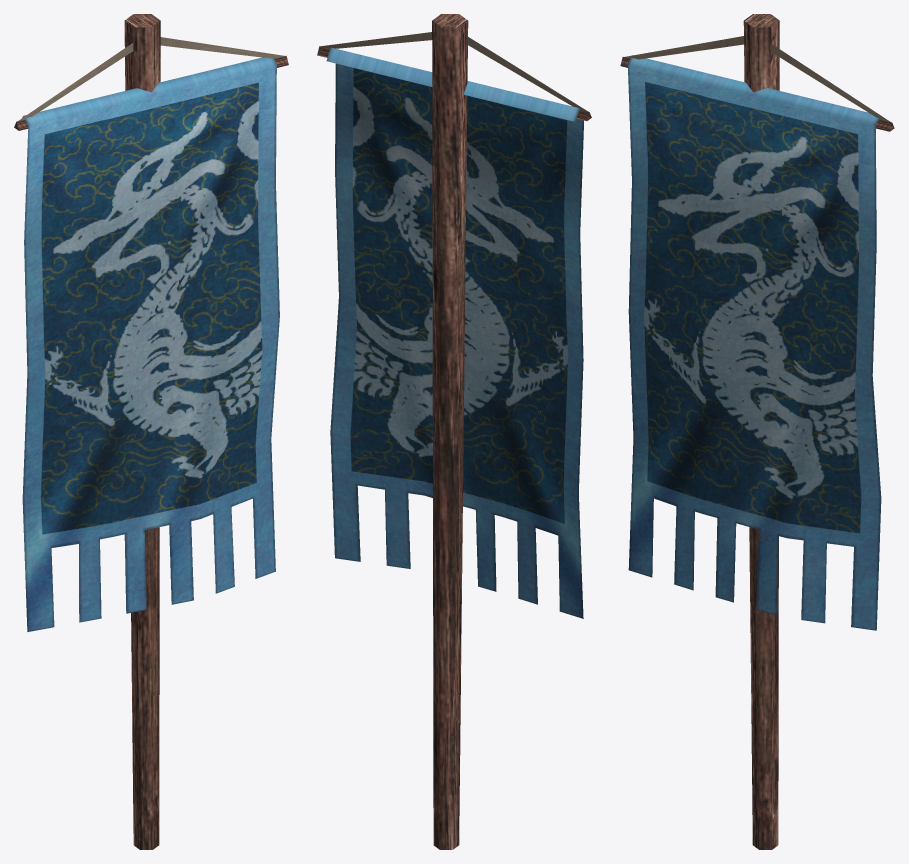
Rendered from flag01.FBX.
3 renders of one model, left to right at view 1: azimuth 30°, elevation 25°; view 2: azimuth 150°, elevation 25°; view 3: azimuth 330°, elevation 25°, orthographic.
Parts seen in each view (by area): view 1: Sphere01:139; view 2: Sphere01:139; view 3: Sphere01:139.
Part boxes in pixels (<box>): Sphere01:139: <box>14,14,288,849</box>; Sphere01:139: <box>317,14,591,849</box>; Sphere01:139: <box>620,14,894,849</box>.
Bounding box in the file's own units: 12.65 × 36.94 × 2.21.
